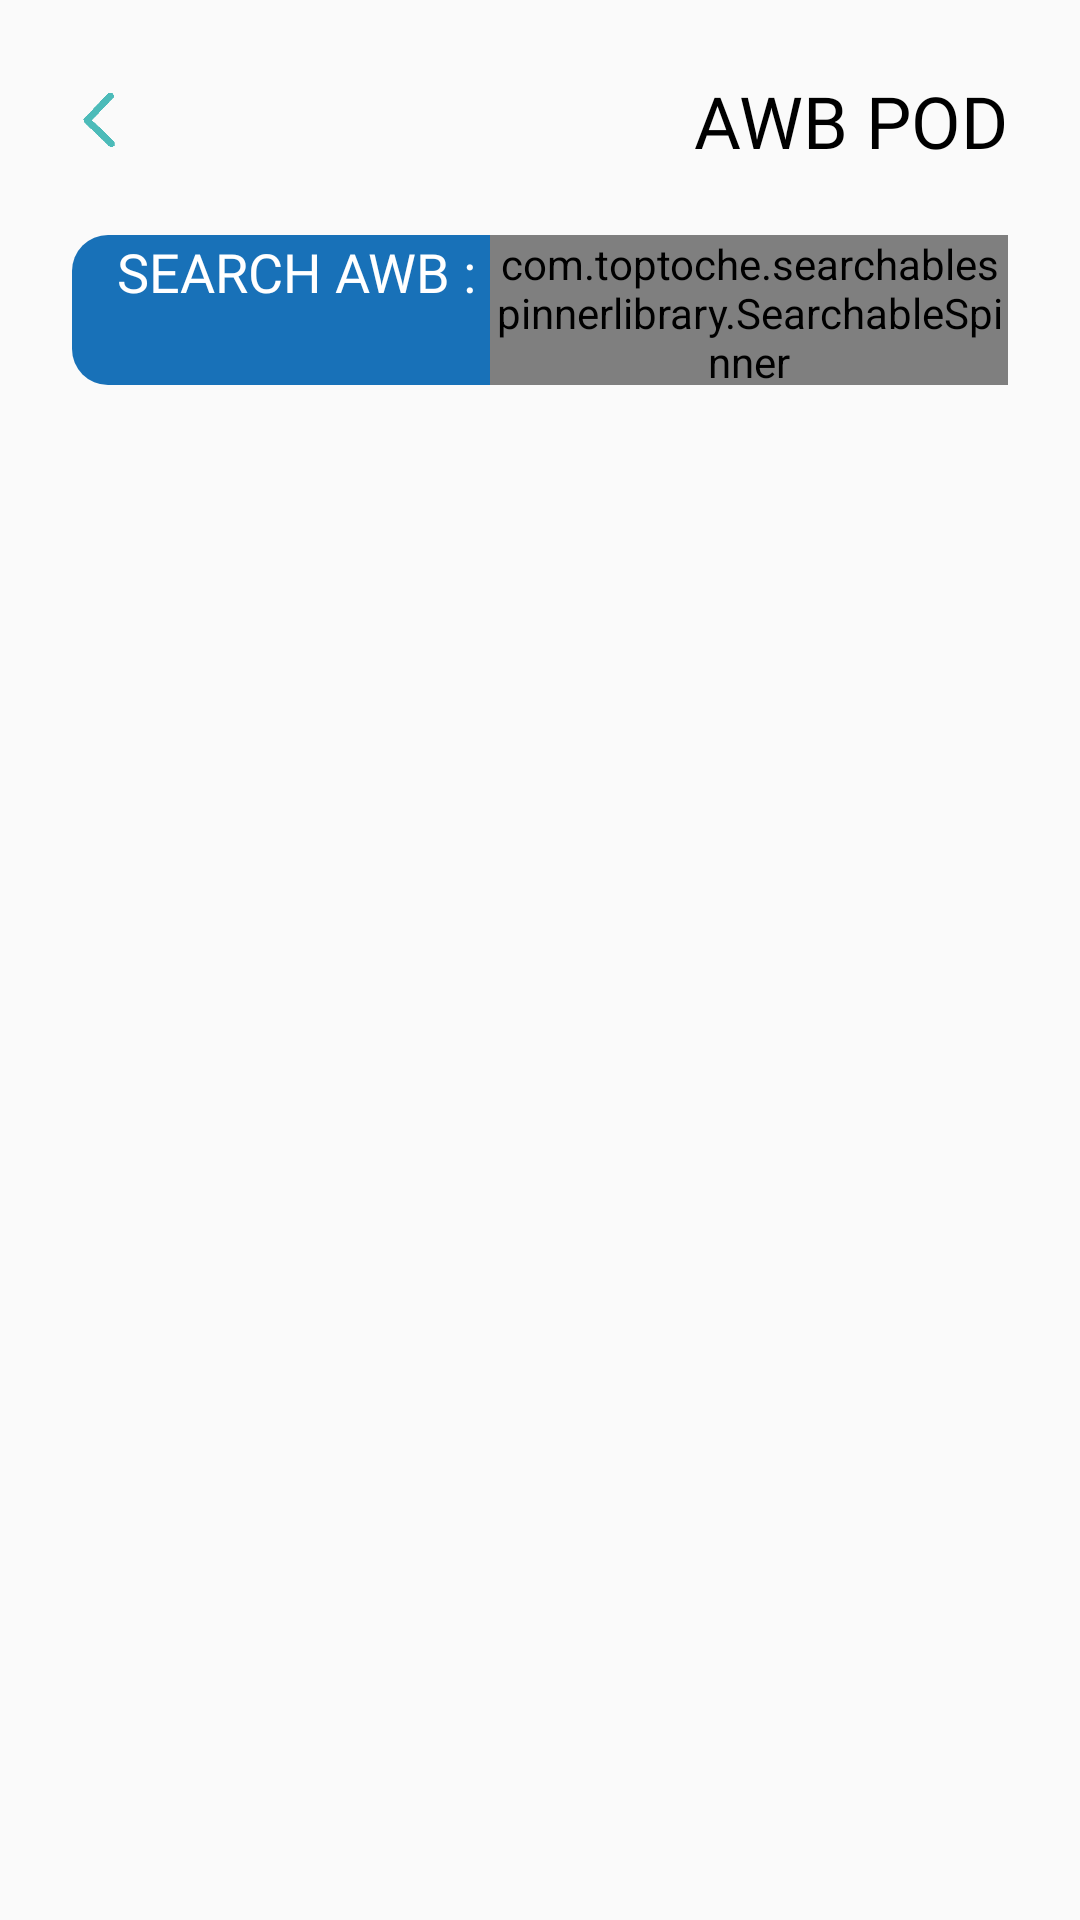

Icons on this 1080*1920 Android screen, each with its box as (x1, y1, x2, y2):
back: (83, 93, 115, 147)
